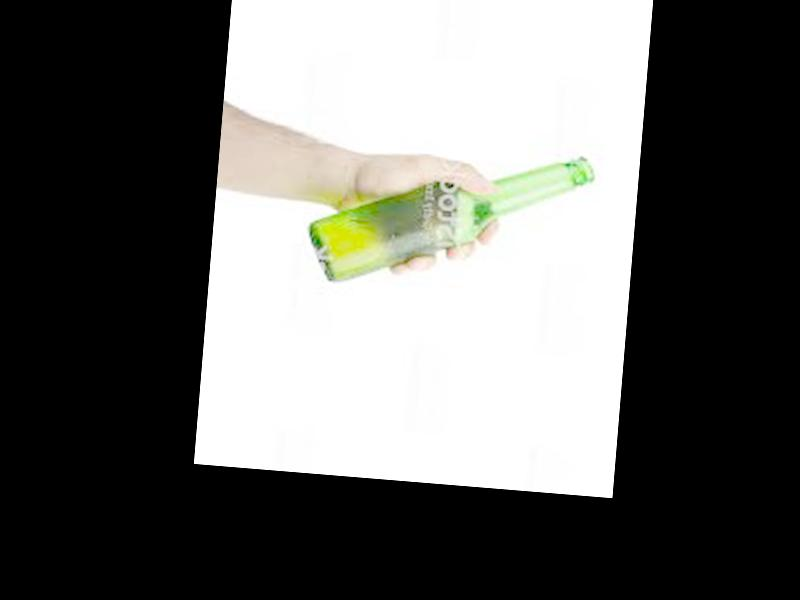Beer: (307, 134, 598, 303)
